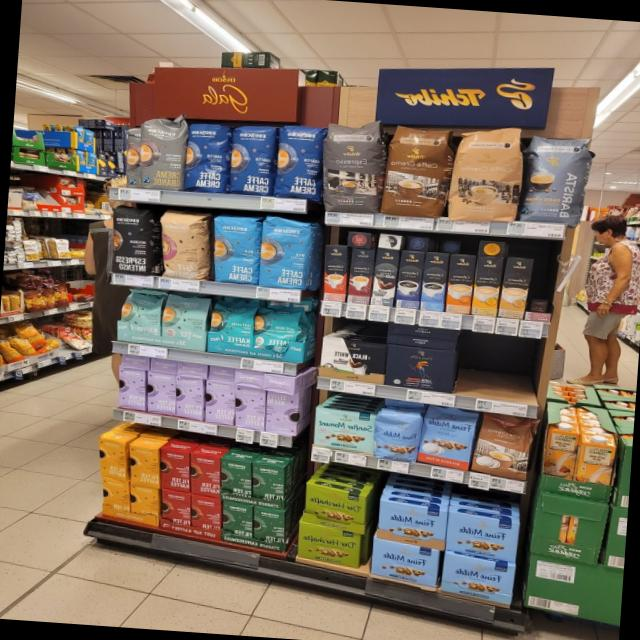BW Gemahlen: (316, 337, 386, 384)
Barista CC: (514, 132, 596, 228)
CC Mild: (444, 122, 532, 228)
CC Vollmundig: (468, 412, 541, 482)
CC Vollmundig 36 Pads: (376, 121, 456, 222)
Empty Shelf: (457, 353, 538, 400), (524, 257, 559, 322)
Espresso Aromatisch: (316, 115, 388, 216)
FM 36 Pads: (416, 404, 480, 473)
FM Bohne: (372, 408, 423, 463)
FM Gemahlen: (439, 549, 517, 606), (443, 509, 520, 565), (374, 497, 448, 550), (369, 537, 440, 588)
Herzhatfe Mundig: (302, 482, 367, 534), (295, 519, 362, 568)
LG Gemahlen: (383, 344, 458, 393)
SM Gemahlen: (311, 406, 377, 453)
Simo CCMild bigpack: (469, 255, 504, 317)
Simo Decaff: (497, 256, 533, 320)
Simo Es Elegant: (322, 244, 349, 302)
Simo Es Kraft: (346, 247, 376, 304)
Simo Kaffee BW: (369, 248, 399, 307)
Simo Kaffee Kraft: (394, 250, 424, 310)
Simo Kaffee Mild: (444, 253, 476, 315), (420, 251, 450, 312)
